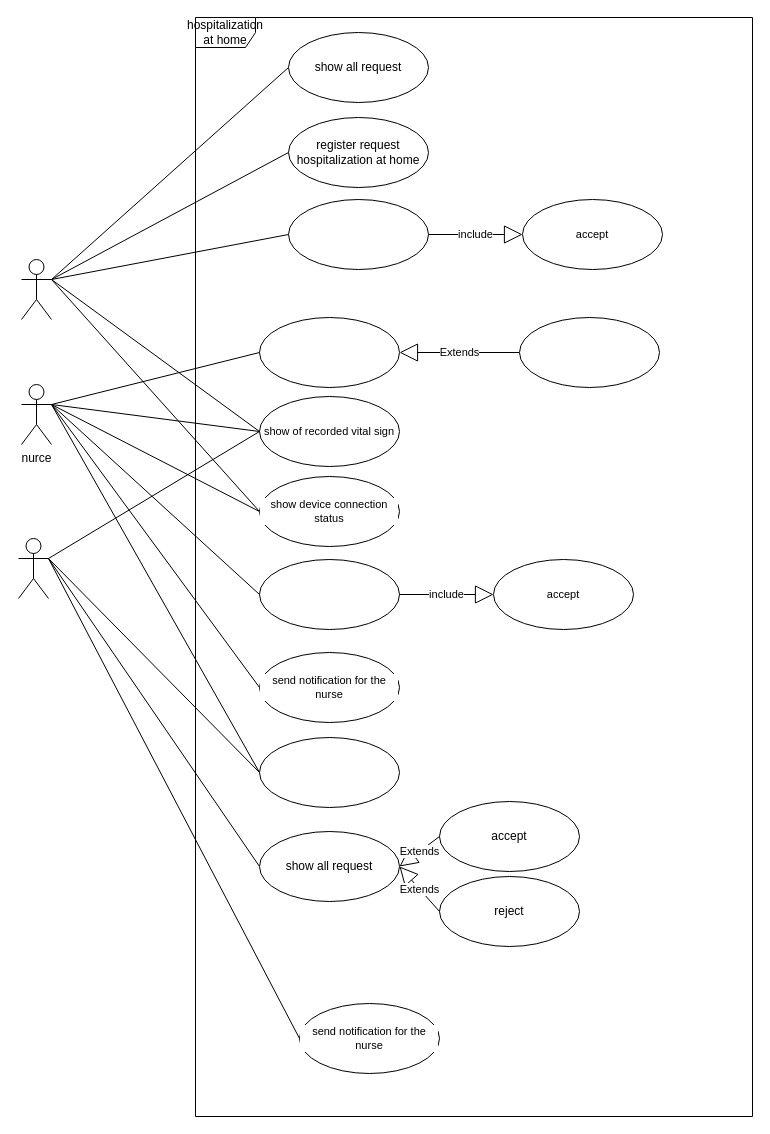
This 770x1134 diagram has some shape labels left out. The centre of each missing label's shape, as x and y in pixels:
"chat with patient , doctor , medicine" goes at pixel 589 352.
"doctor" goes at pixel 33 568.
"patient" goes at pixel 36 289.
"receive notification from the doctor" goes at pixel 329 594.
"receive notification from the nurse" goes at pixel 358 234.
"show page chat" goes at pixel 329 352.
"show real time vital sign" goes at pixel 329 772.
